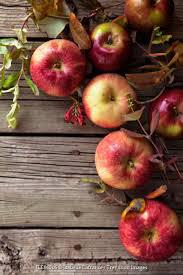apple: (97, 129, 154, 191), (81, 70, 133, 125), (33, 44, 82, 99)
